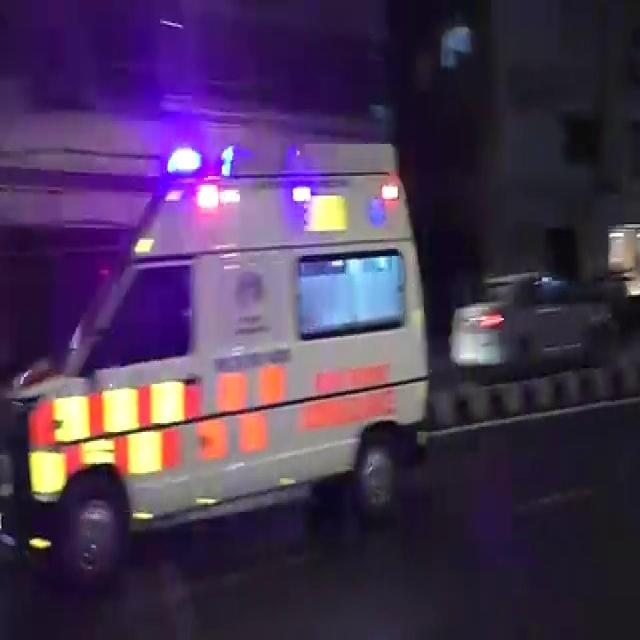ambulance: (10, 137, 442, 550)
